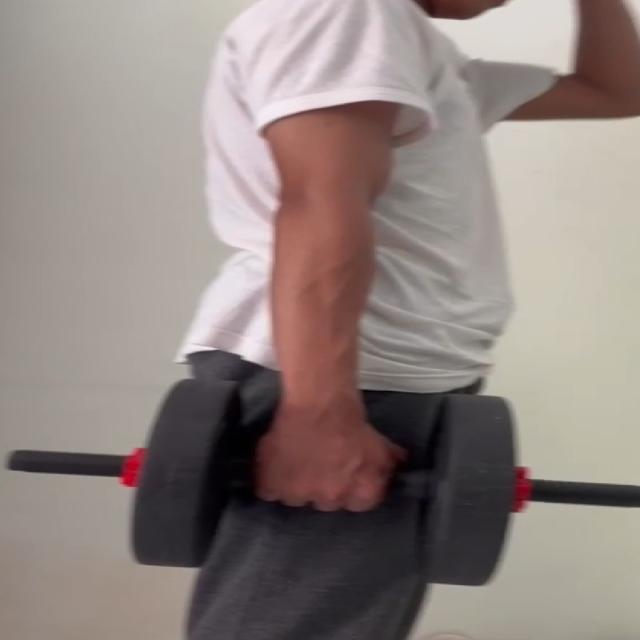hammer: (127, 375, 524, 585)
